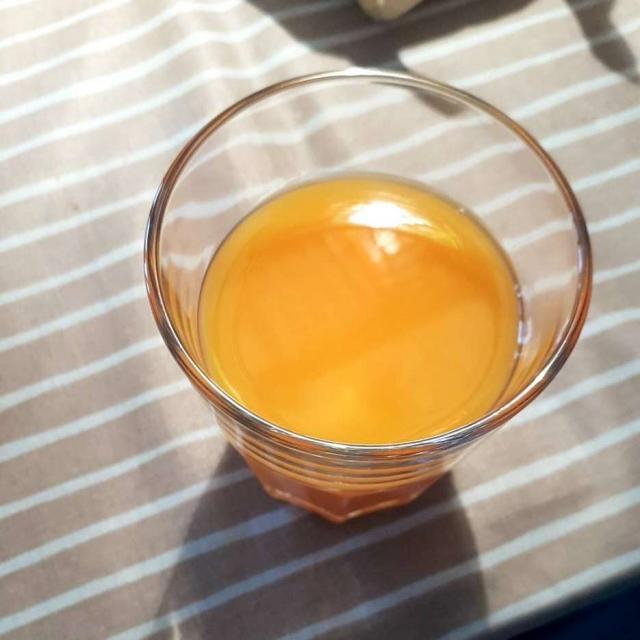juice: (198, 179, 510, 437)
